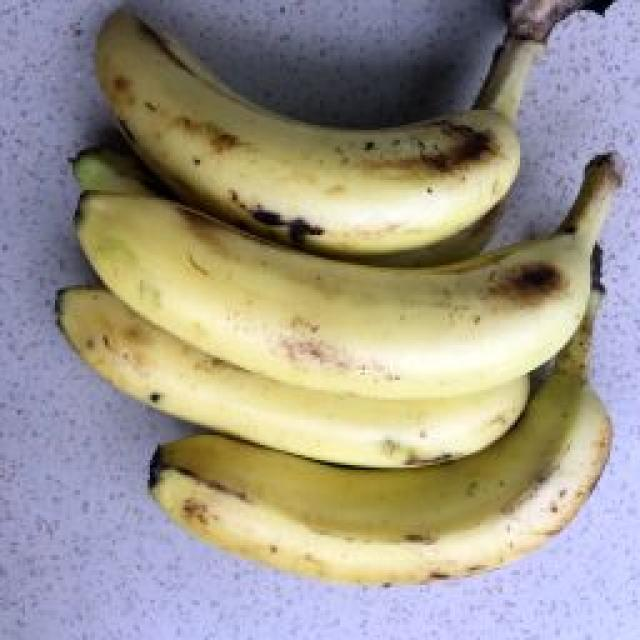banana: (151, 294, 610, 584), (79, 180, 616, 398), (99, 15, 519, 256), (59, 289, 529, 468)
